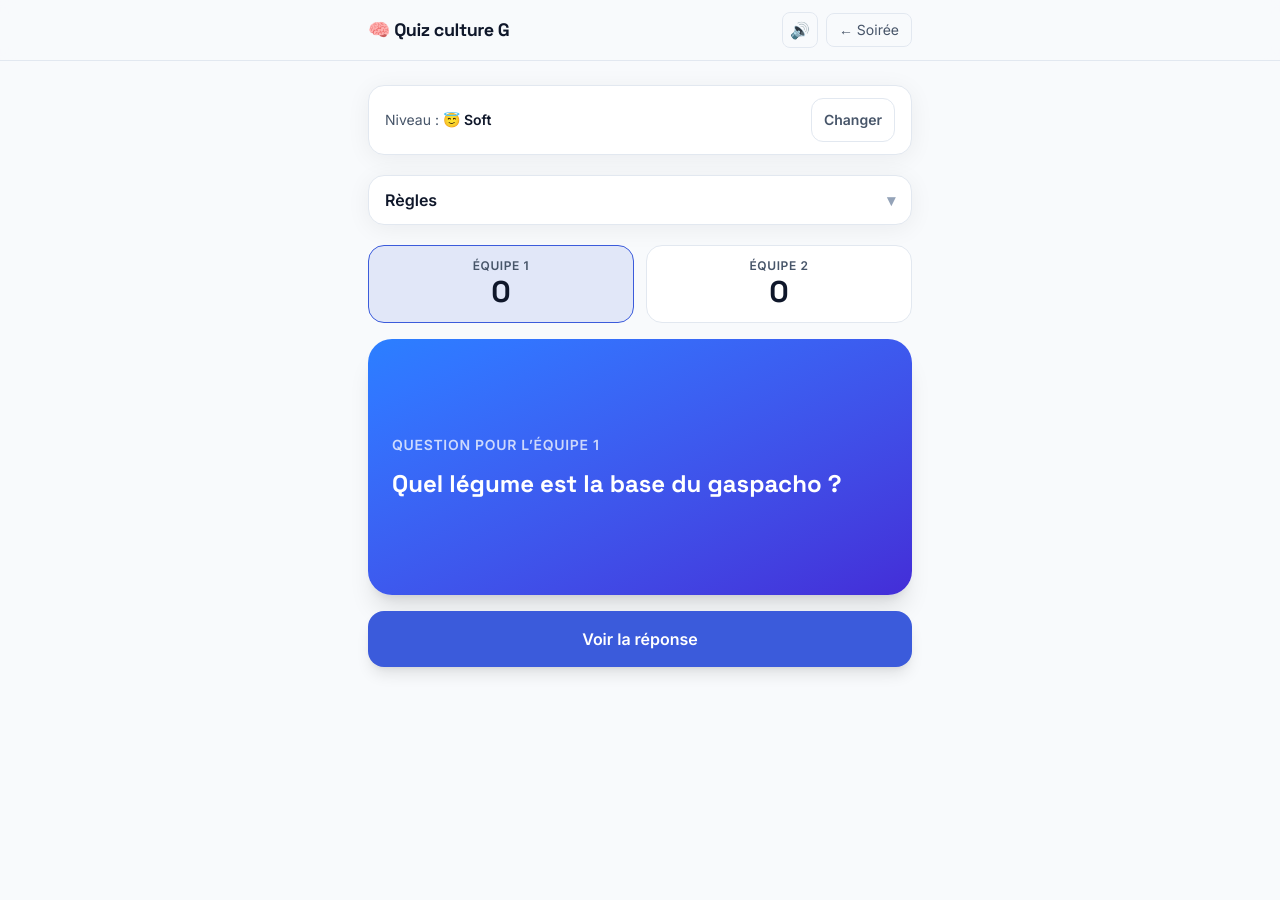
Test: page d’un jeu de soirée › replie le choix du niveau et prévient qu’en changer relance la partie
Click the button "Changer". click: point(853, 120)
box: x1=811 y1=98 x2=895 y2=142
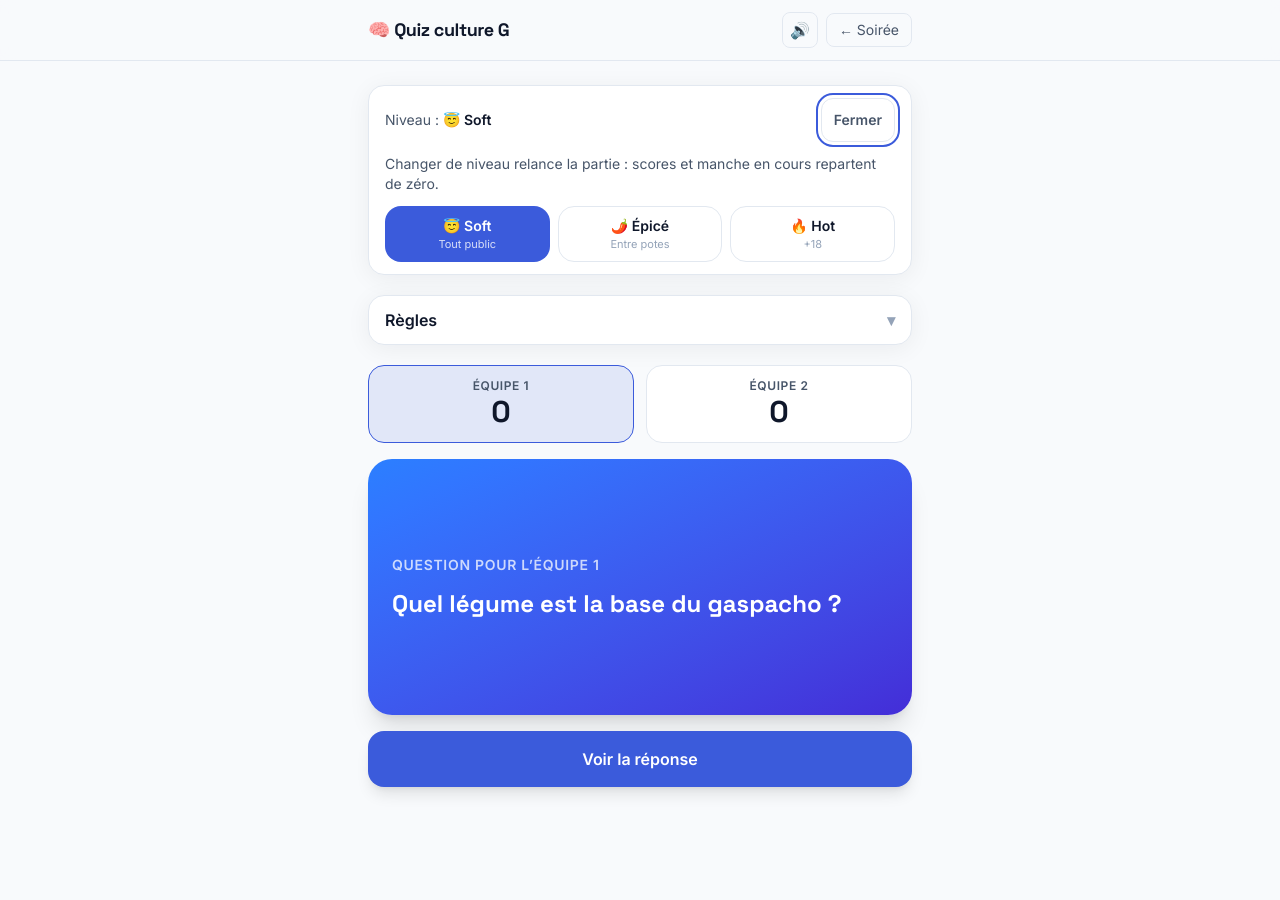
Expected: the element named "Niveau des questions" is shown, x1=385 y1=206 x2=895 y2=262
Expected: the text "relance la partie" is shown, x1=385 y1=155 x2=876 y2=192
Click the radio button labelled "🌶️ Épicé Entre potes". click: point(640, 234)
box: x1=558 y1=206 x2=722 y2=262
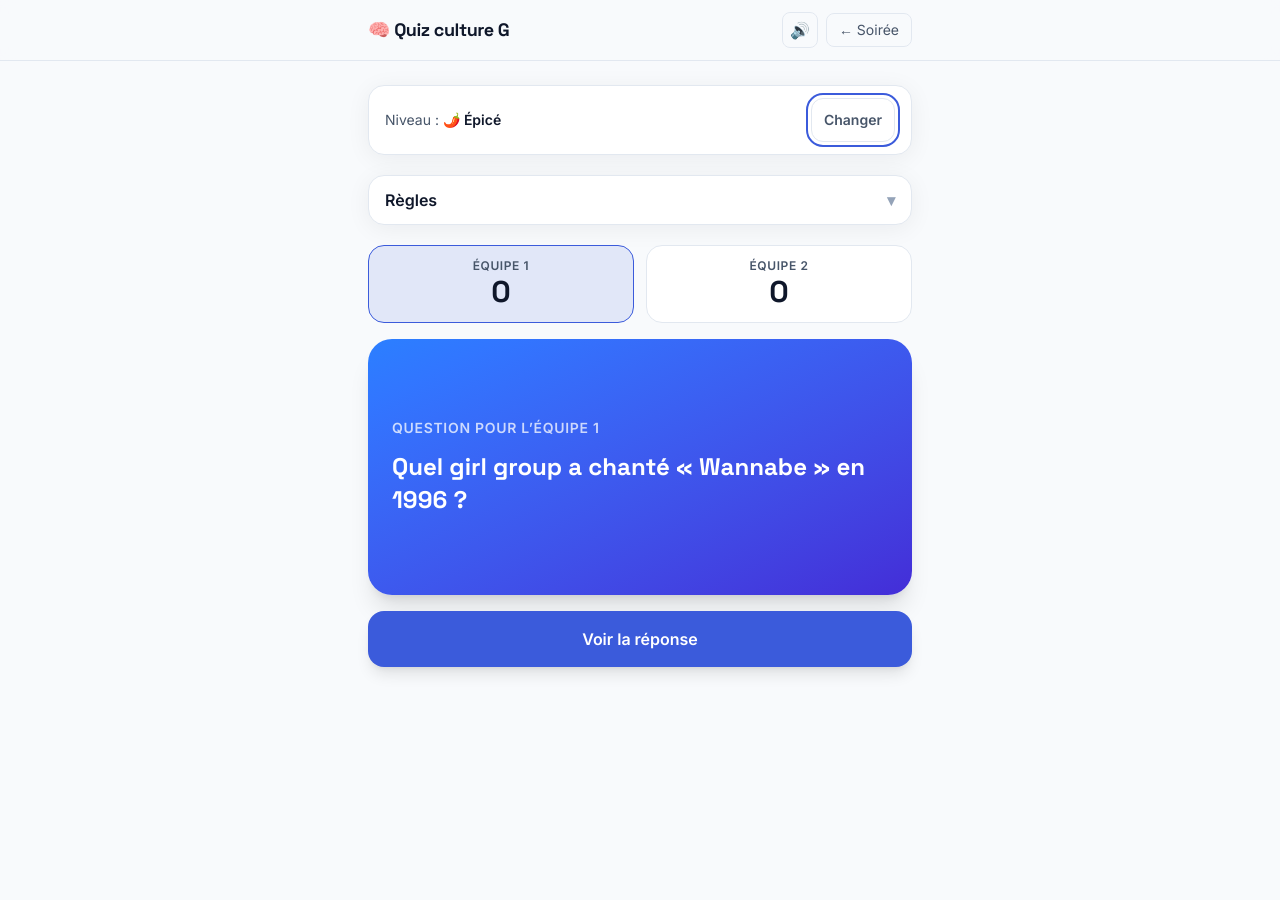
Expected: the text "Épicé" is shown, x1=464 y1=111 x2=501 y2=128
